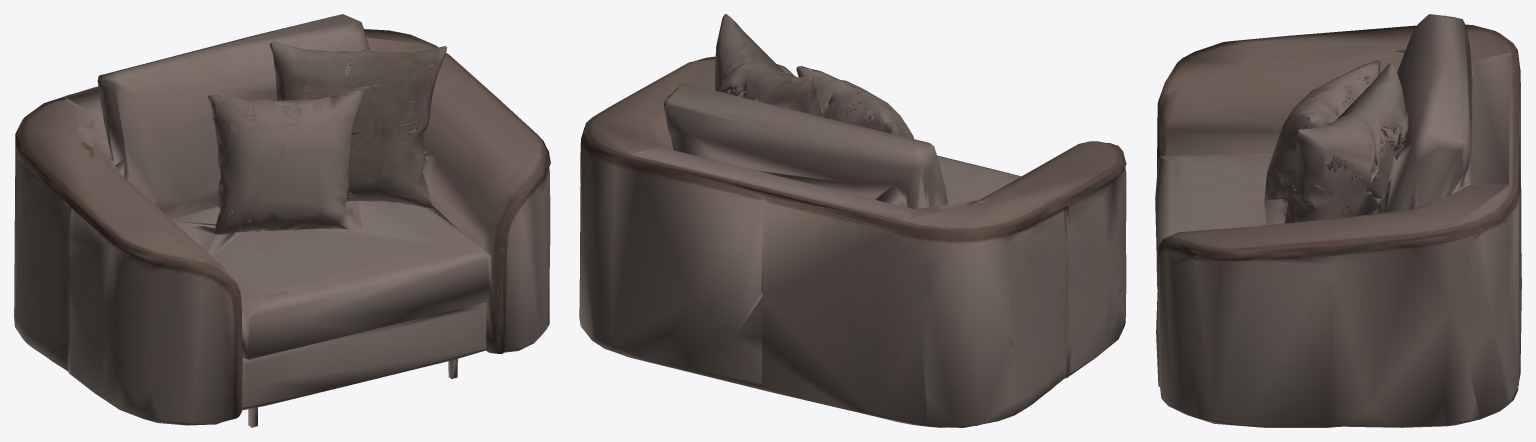
Rendered from w7HCTIm8vKjy77djS6c0R.glb.
3 renders of one model, left to right at view 1: azimuth 30°, elevation 25°; view 2: azimuth 150°, elevation 25°; view 3: azimuth 270°, elevation 25°, orthographic. The views are drawn at different scales.
Visible parts, largest first — view 1: geometry_0; view 2: geometry_0; view 3: geometry_0.
Boxes of the visible parts, x1,y1,x2,y2 form: geometry_0: (14, 14, 550, 427); geometry_0: (579, 14, 1126, 427); geometry_0: (1155, 14, 1521, 427).
Size of the model in its own units: 1 by 0.6372 by 0.7218.
1 material, 1 textured.
